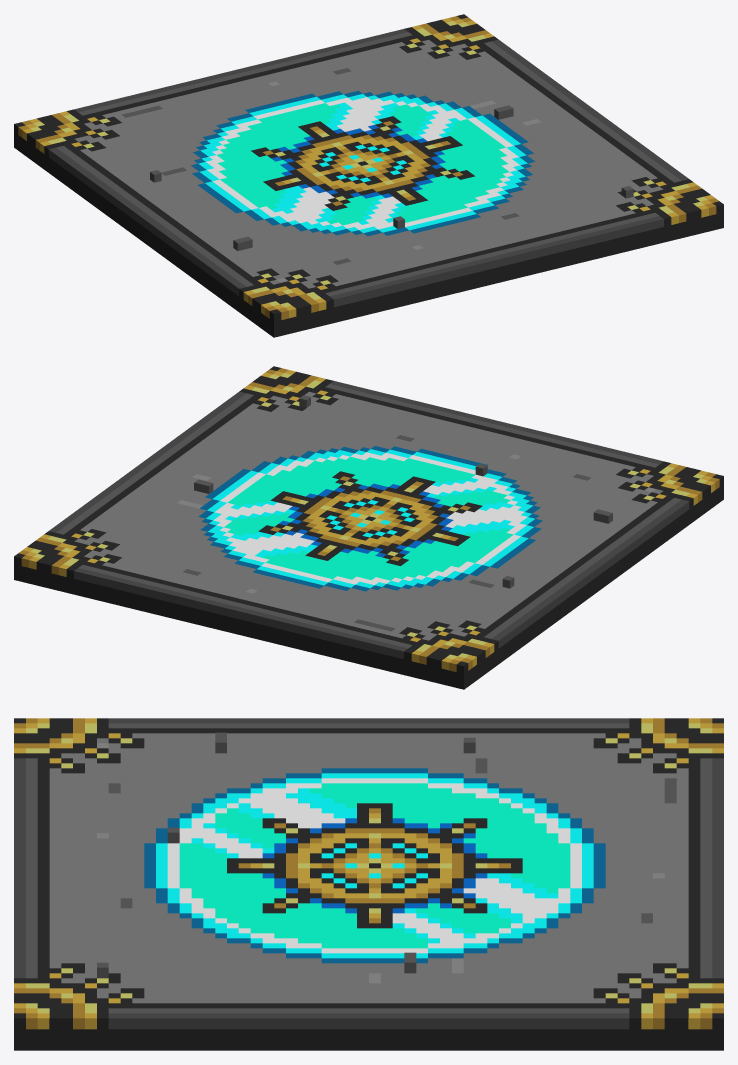
The model's file is stg1_floor.obj.
3 views of the same model, one above another, from view 1: azimuth 30°, elevation 25°; view 2: azimuth 150°, elevation 25°; view 3: azimuth 270°, elevation 25° (orthographic). The views are drawn at different scales.
Visible parts, largest first — view 1: stg1_floor; view 2: stg1_floor; view 3: stg1_floor.
Boxes of the visible parts, x1,y1,x2,y2 form: stg1_floor: (14, 14, 723, 337); stg1_floor: (14, 366, 723, 689); stg1_floor: (14, 718, 723, 1050).
Size of the model in its own units: 60 by 4 by 60.
1 material, 1 textured.
